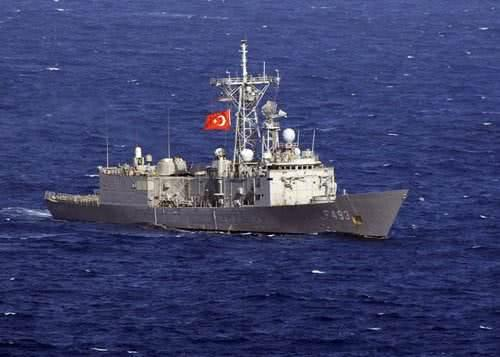warship: (43, 39, 413, 240)
